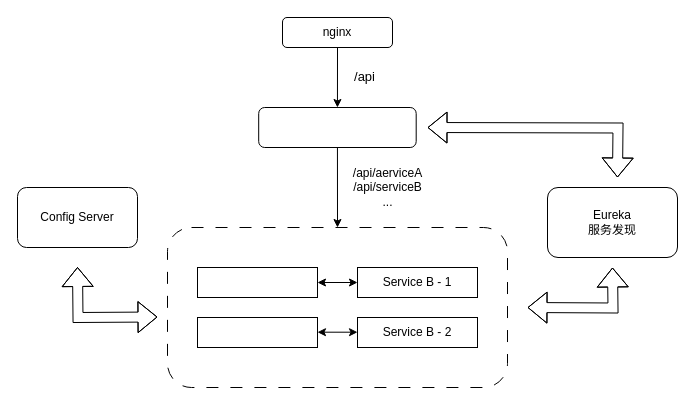
Image size: 695x405. Some labels were removed from this diagram. The box of each missing label's shape, as (x1, y1, x2, y2) in pixels:
Service A - 1: (196, 266, 318, 298)
Service A - 2: (196, 316, 318, 348)
Zuul 网关: (258, 106, 416, 148)
